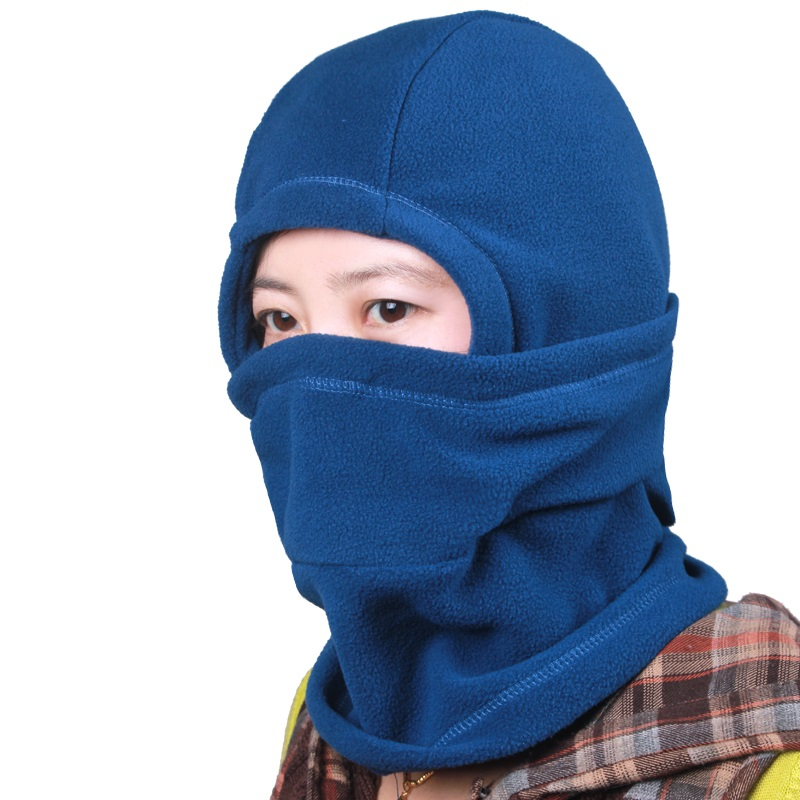face_mask: (241, 214, 480, 574)
